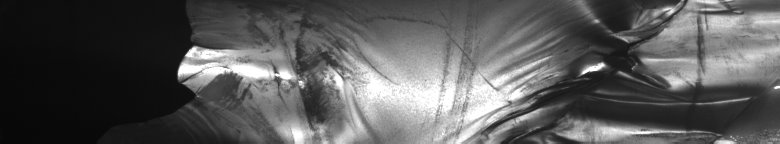ke: (473, 4, 776, 136)
